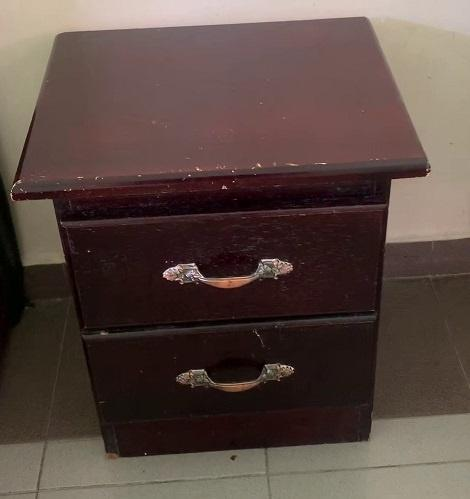cabinet_door: (75, 213, 377, 318), (92, 321, 373, 413)
handle: (173, 358, 300, 401), (160, 257, 296, 297)
